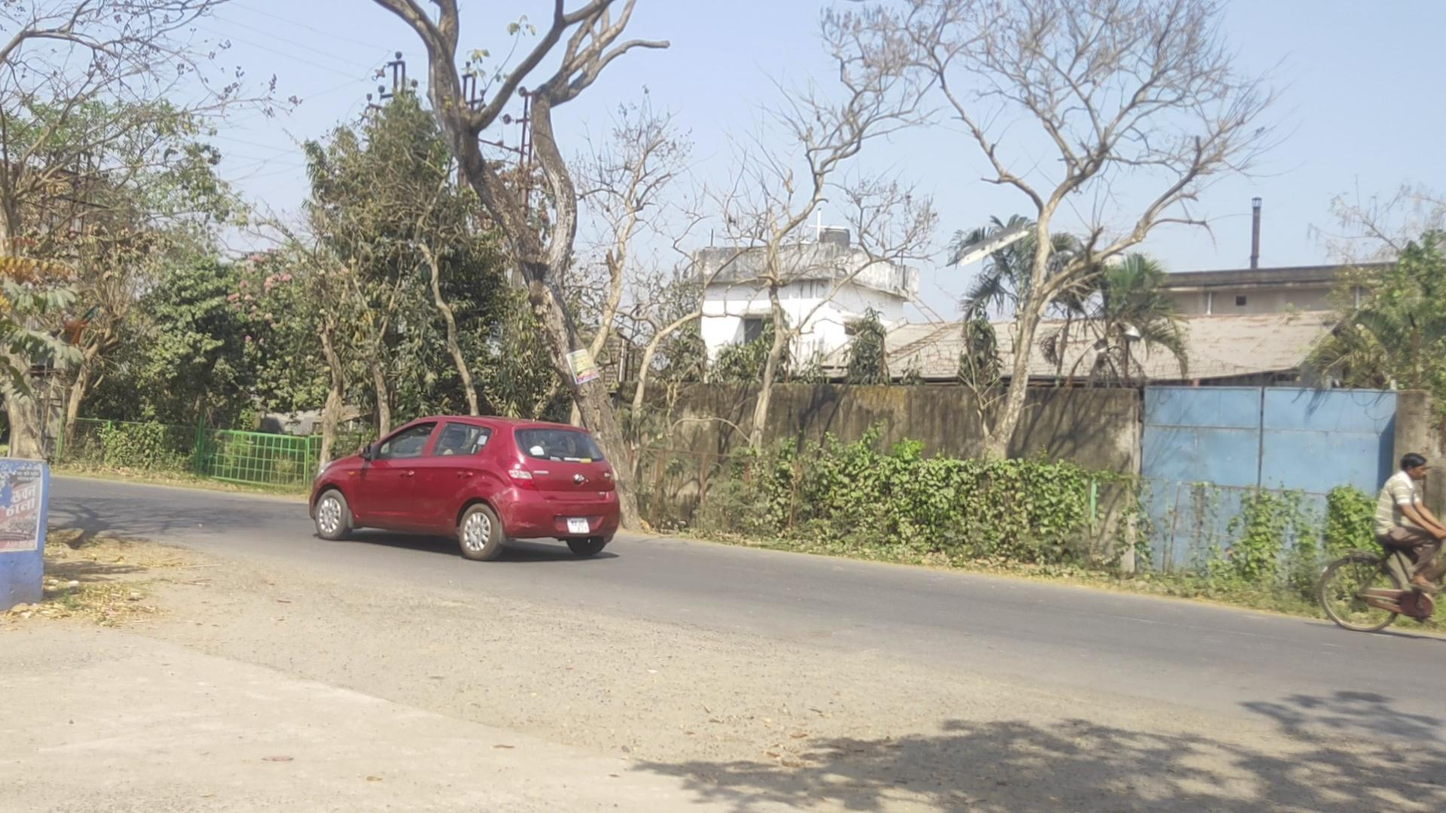bike: (1316, 453, 1446, 633)
car: (309, 415, 620, 562)
